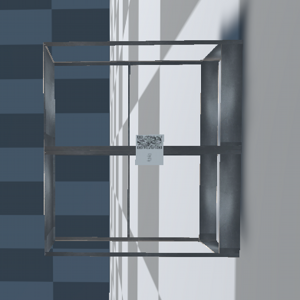Rack: (53, 42, 260, 260)
